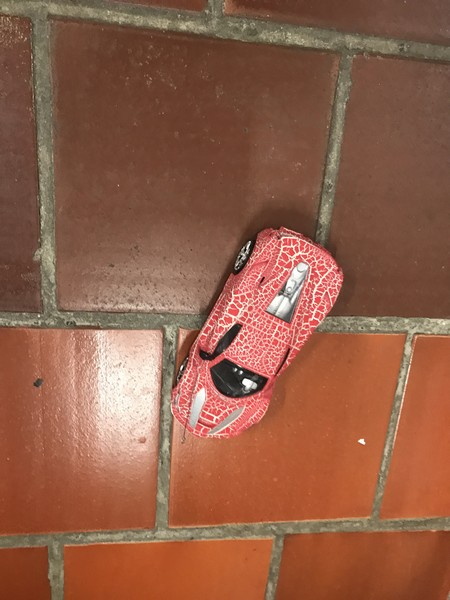RC: (167, 226, 345, 442)
